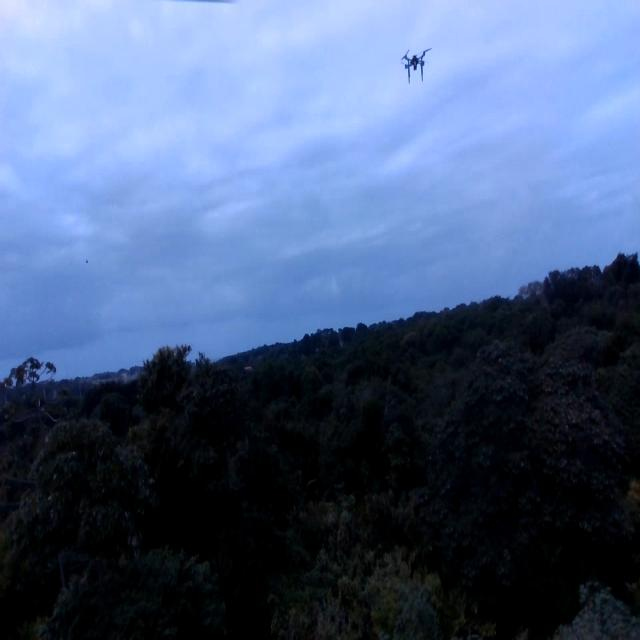-uav-: (398, 34, 432, 87)
